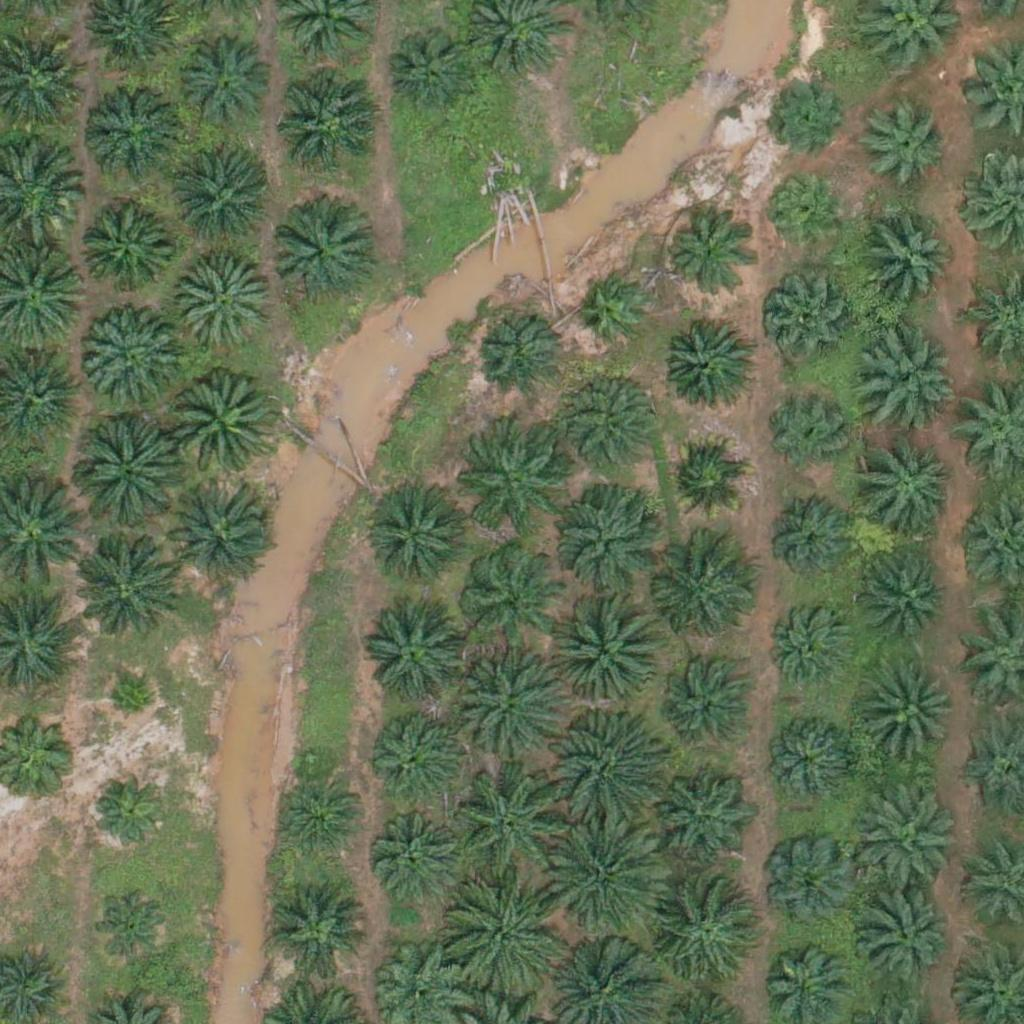Kelapa_Sawit: (552, 820, 665, 933), (552, 709, 665, 822), (551, 591, 664, 704), (552, 476, 665, 589), (449, 651, 562, 764), (451, 880, 564, 993), (68, 416, 181, 529), (65, 533, 178, 646), (853, 781, 965, 895), (648, 535, 760, 648), (650, 885, 762, 998), (456, 765, 568, 878), (164, 368, 276, 481), (161, 476, 273, 589), (859, 433, 959, 534), (759, 833, 859, 934), (651, 773, 751, 874), (453, 433, 553, 534), (459, 545, 559, 646), (365, 699, 465, 800), (365, 607, 465, 708), (371, 481, 471, 582), (267, 879, 367, 980), (268, 205, 368, 306), (175, 254, 275, 355), (73, 199, 173, 300), (80, 307, 180, 408), (852, 94, 952, 195), (858, 214, 958, 314), (861, 330, 961, 430), (862, 667, 962, 767), (855, 888, 955, 988), (760, 712, 860, 812), (560, 368, 660, 468), (368, 801, 468, 901), (173, 156, 273, 256), (277, 73, 377, 173), (173, 32, 273, 132), (85, 77, 185, 177), (89, 882, 177, 971), (861, 550, 949, 638), (762, 171, 850, 259), (766, 389, 854, 477), (767, 501, 855, 589), (767, 606, 855, 694), (475, 309, 563, 397), (764, 272, 851, 360), (666, 213, 753, 301), (662, 318, 749, 406), (87, 764, 174, 852), (662, 436, 749, 524), (659, 657, 746, 745), (274, 767, 361, 855), (764, 72, 851, 160), (388, 25, 475, 113), (578, 275, 653, 351), (106, 679, 156, 729)
